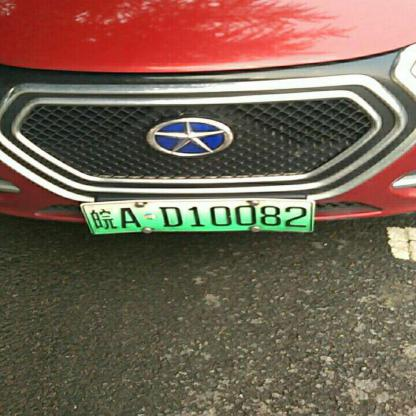lp: (83, 204, 310, 235)
